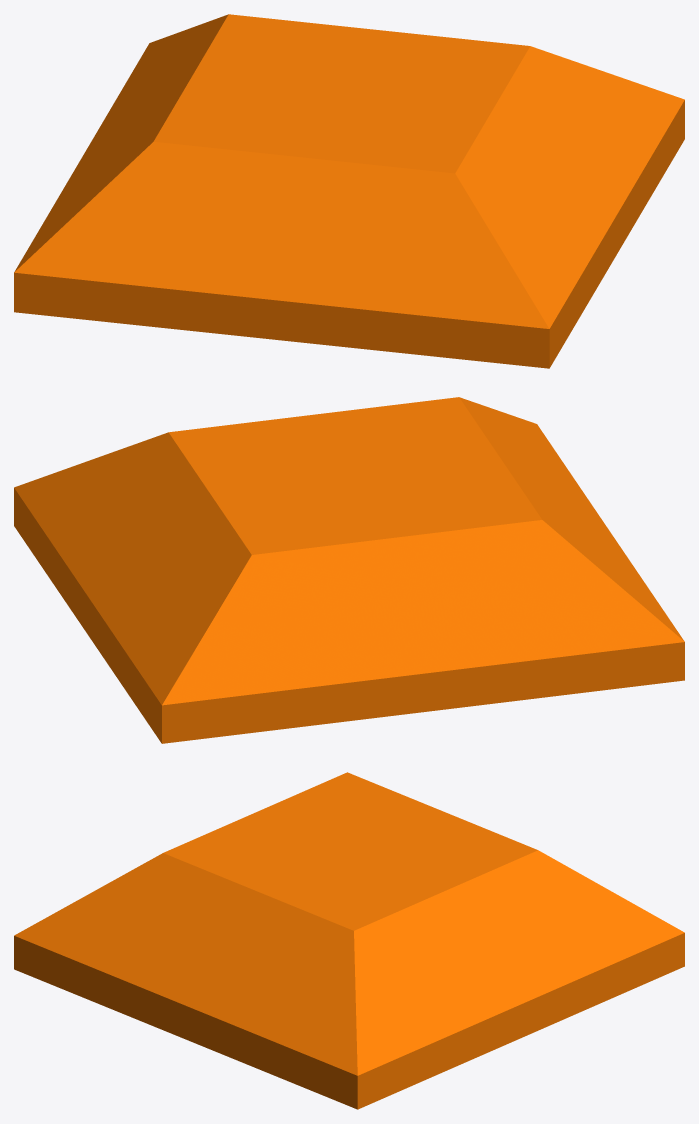
File: HZBunkerNoTex.dae
3 views of the same model, one above another, from view 1: azimuth 30°, elevation 25°; view 2: azimuth 150°, elevation 25°; view 3: azimuth 270°, elevation 25° (orthographic). The views are drawn at different scales.
Parts seen in each view (by area): view 1: instance_0 (×3); view 2: instance_0 (×3); view 3: instance_0 (×3).
Boxes of the visible parts, x1,y1,x2,y2 form: instance_0 (×3): [14, 14, 684, 368]; instance_0 (×3): [14, 397, 684, 743]; instance_0 (×3): [14, 772, 684, 1109].
Size of the model in its own units: 56.24 by 56.26 by 10.5.
